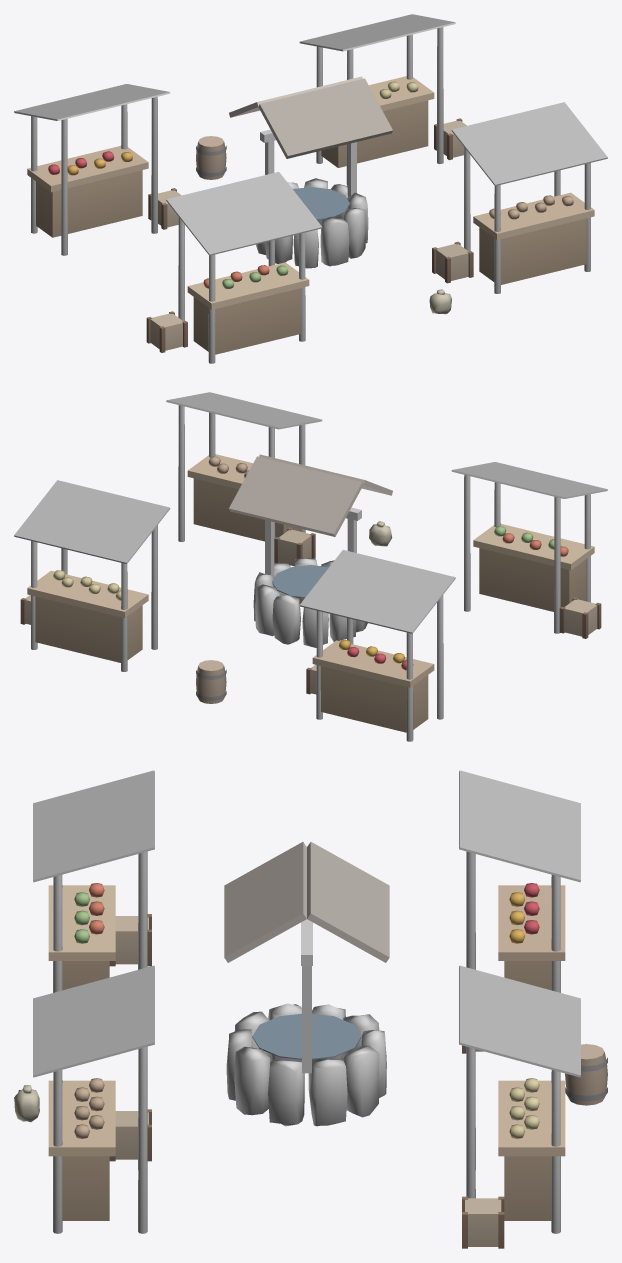
File: hw_medieval_market.glb
The picture shows the model from 3 angles, top to bottom: view 1: azimuth 30°, elevation 25°; view 2: azimuth 150°, elevation 25°; view 3: azimuth 270°, elevation 25°; orthographic projection. The views are drawn at different scales.
Parts seen in each view (by area): view 1: Building; view 2: Building; view 3: Building.
Boxes of the visible parts, x1,y1,x2,y2 form: Building: [14, 14, 607, 363]; Building: [14, 392, 607, 741]; Building: [14, 770, 607, 1248].
Size of the model in its own units: 5.85 by 2.05 by 4.89.
